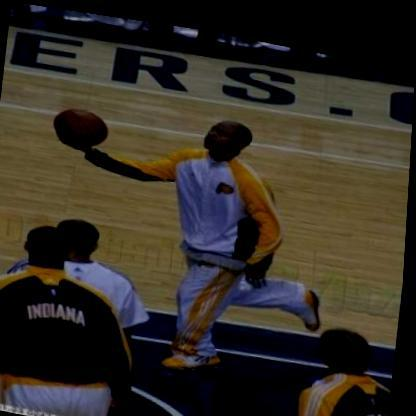basketball: (53, 100, 113, 149)
